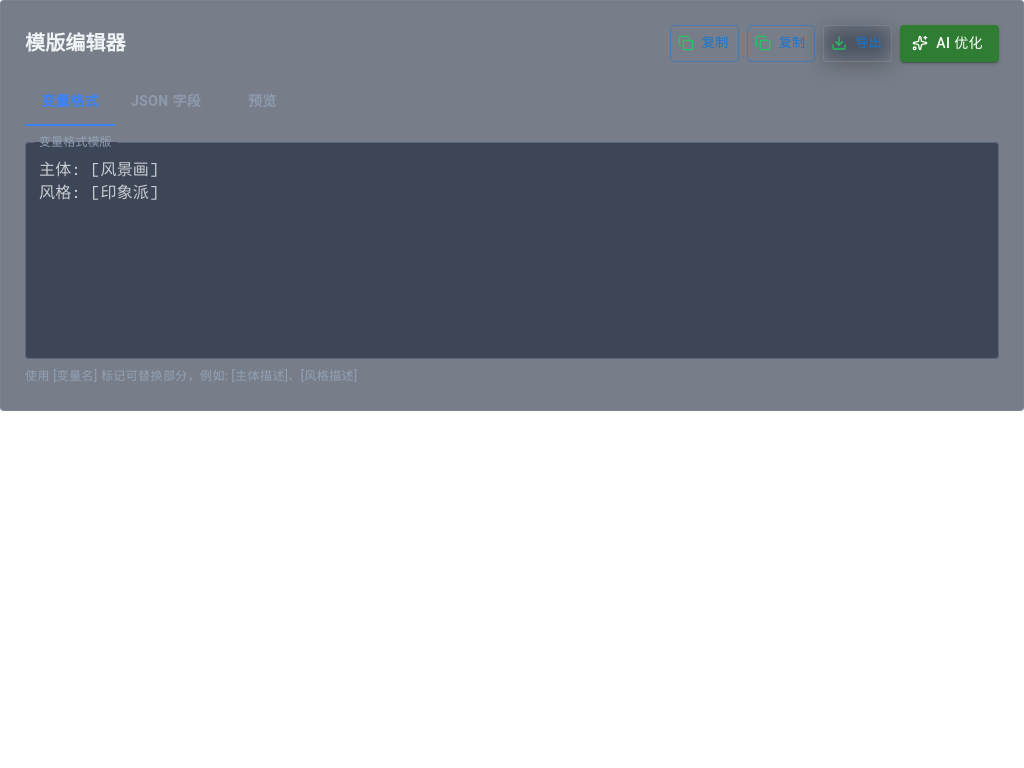
Test: TemplateEditor Component › JSON Fields Tab › should display all JSON fields
The image size is (1024, 768).
Click on JSON fields tab
Click the tab "JSON 字段". click: [166, 102]
box: 115,78 -> 217,126
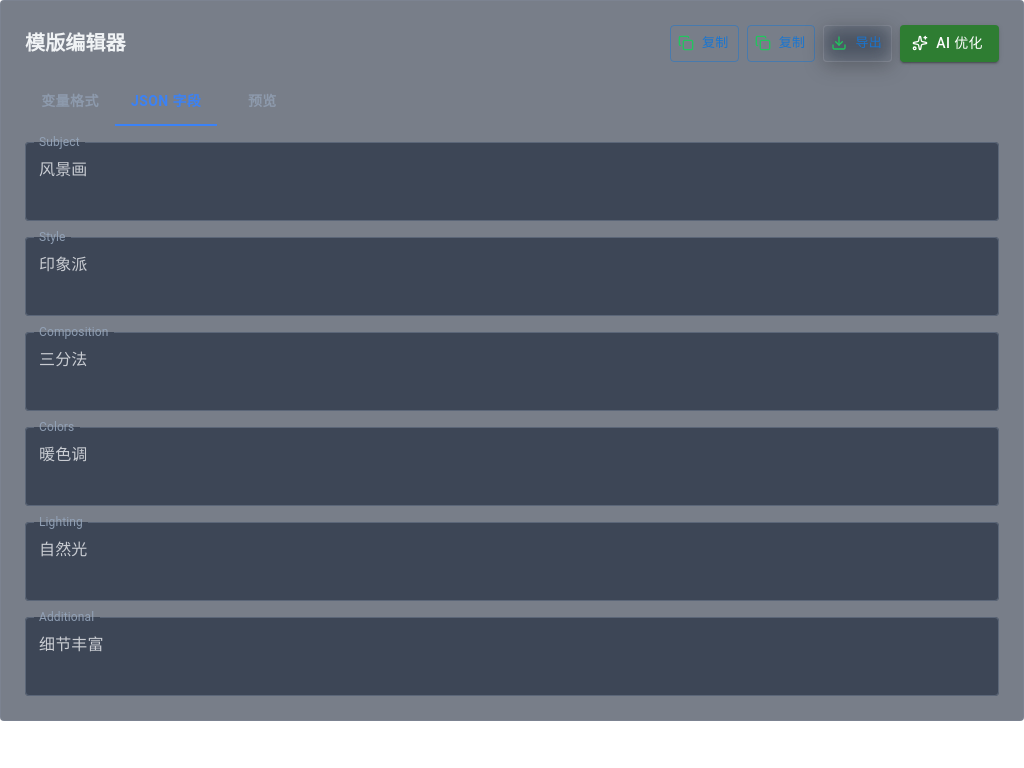
expect the text box labelled "Style" is shown: met, box 39,253 -> 985,299
expect the text box labelled "Composition" is shown: met, box 39,348 -> 985,394
expect the text box labelled "Colors" is shown: met, box 39,443 -> 985,489
